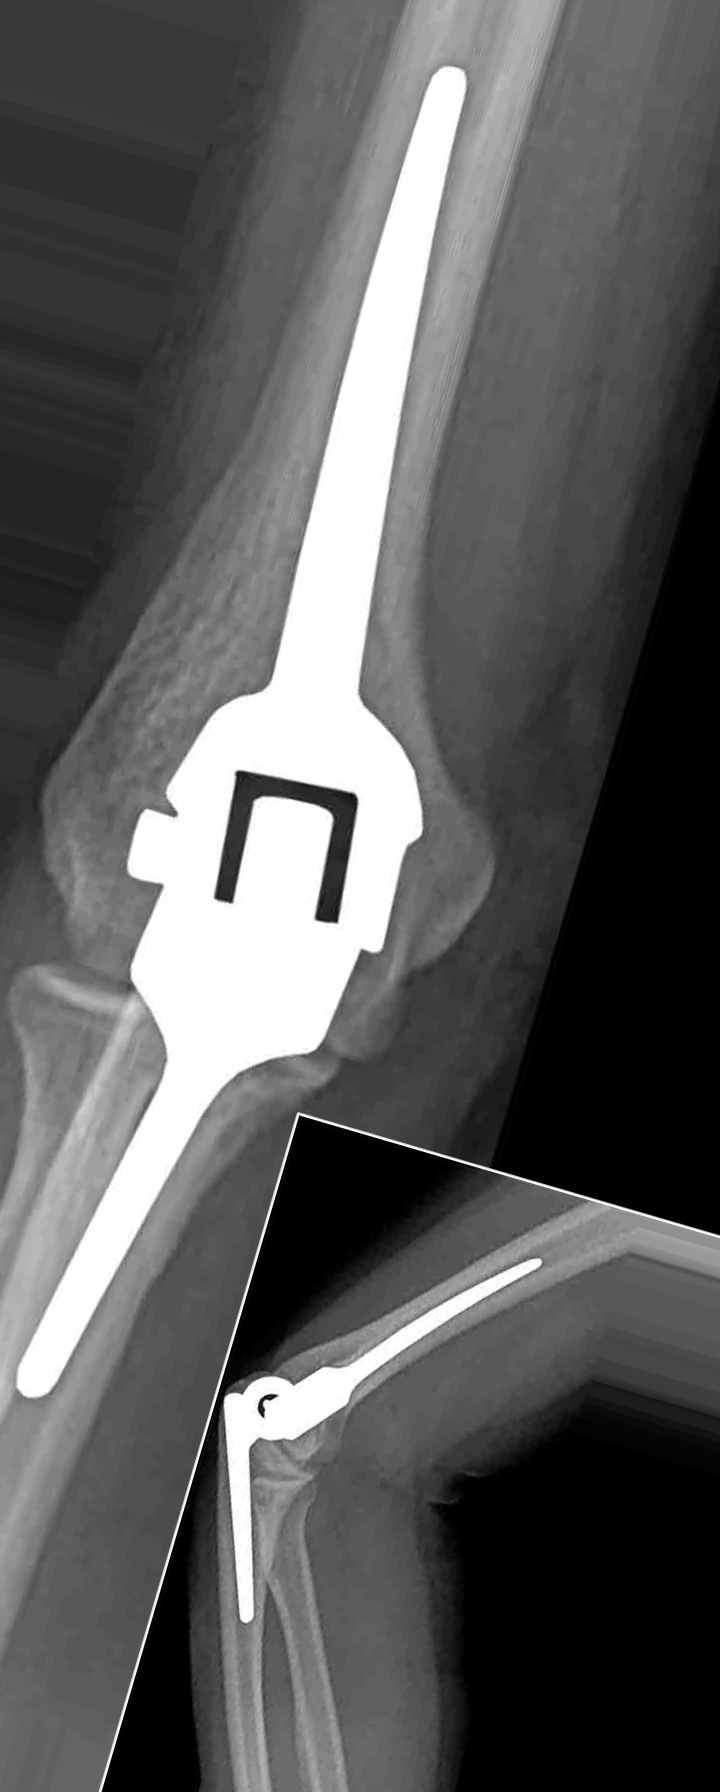Elbow - Osteonics - Stryker: (47, 41, 472, 1259), (206, 1229, 555, 1643)
